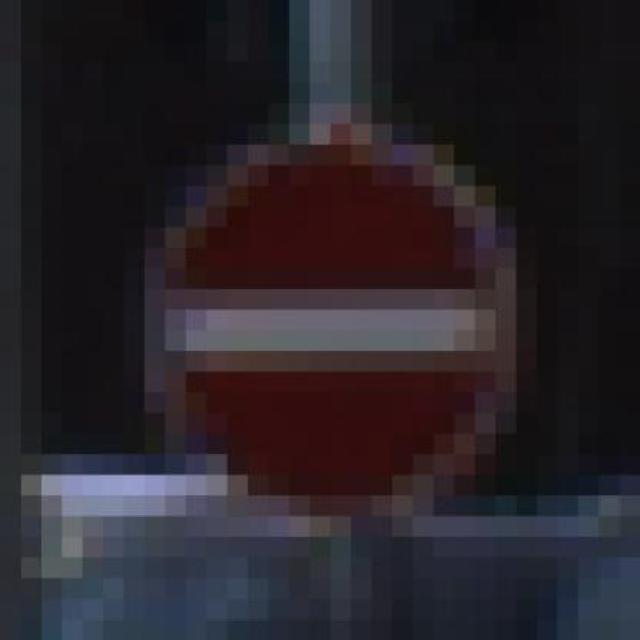B2: (146, 136, 512, 509)
